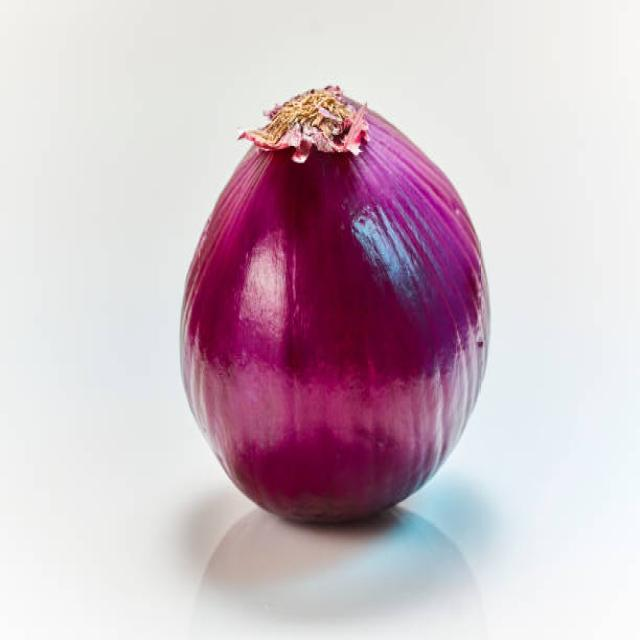onion: (166, 84, 499, 519)
